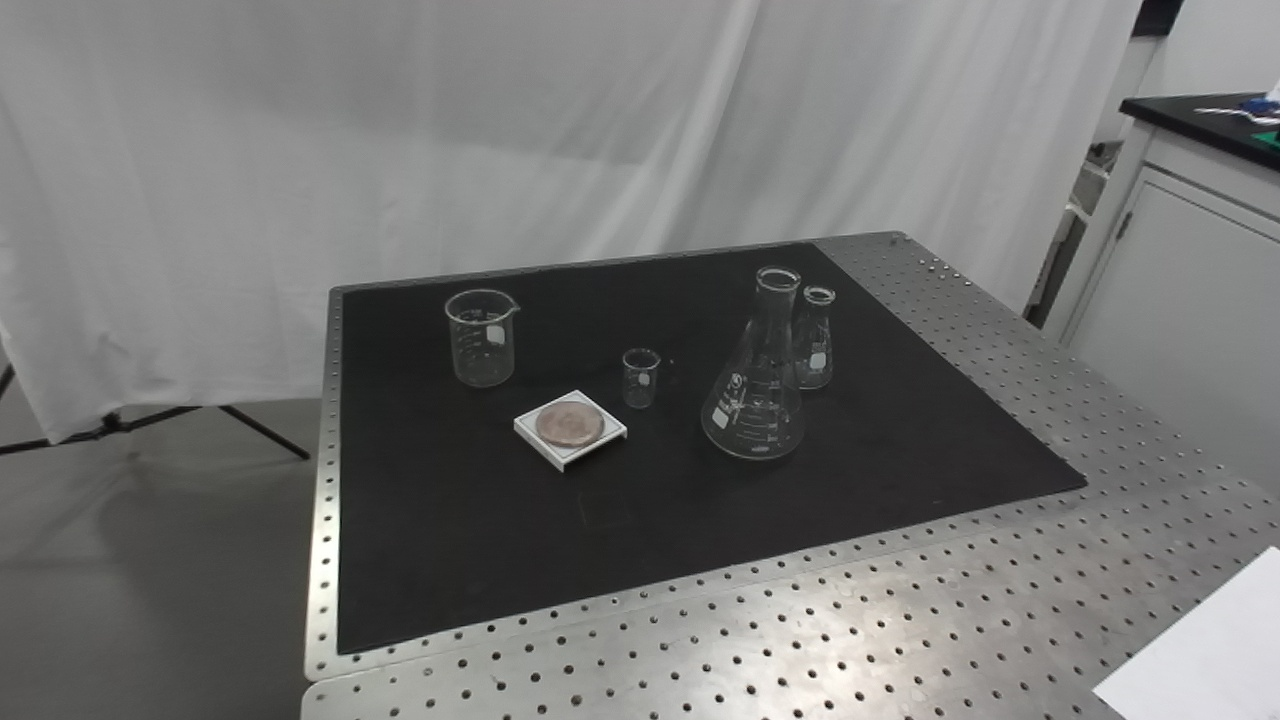glass: (698, 263, 808, 462), (441, 286, 519, 389), (787, 282, 836, 393), (617, 347, 662, 412)
plate: (513, 387, 633, 478)
